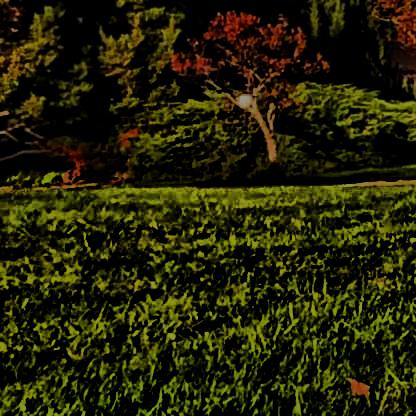golfball: (234, 90, 249, 107)
